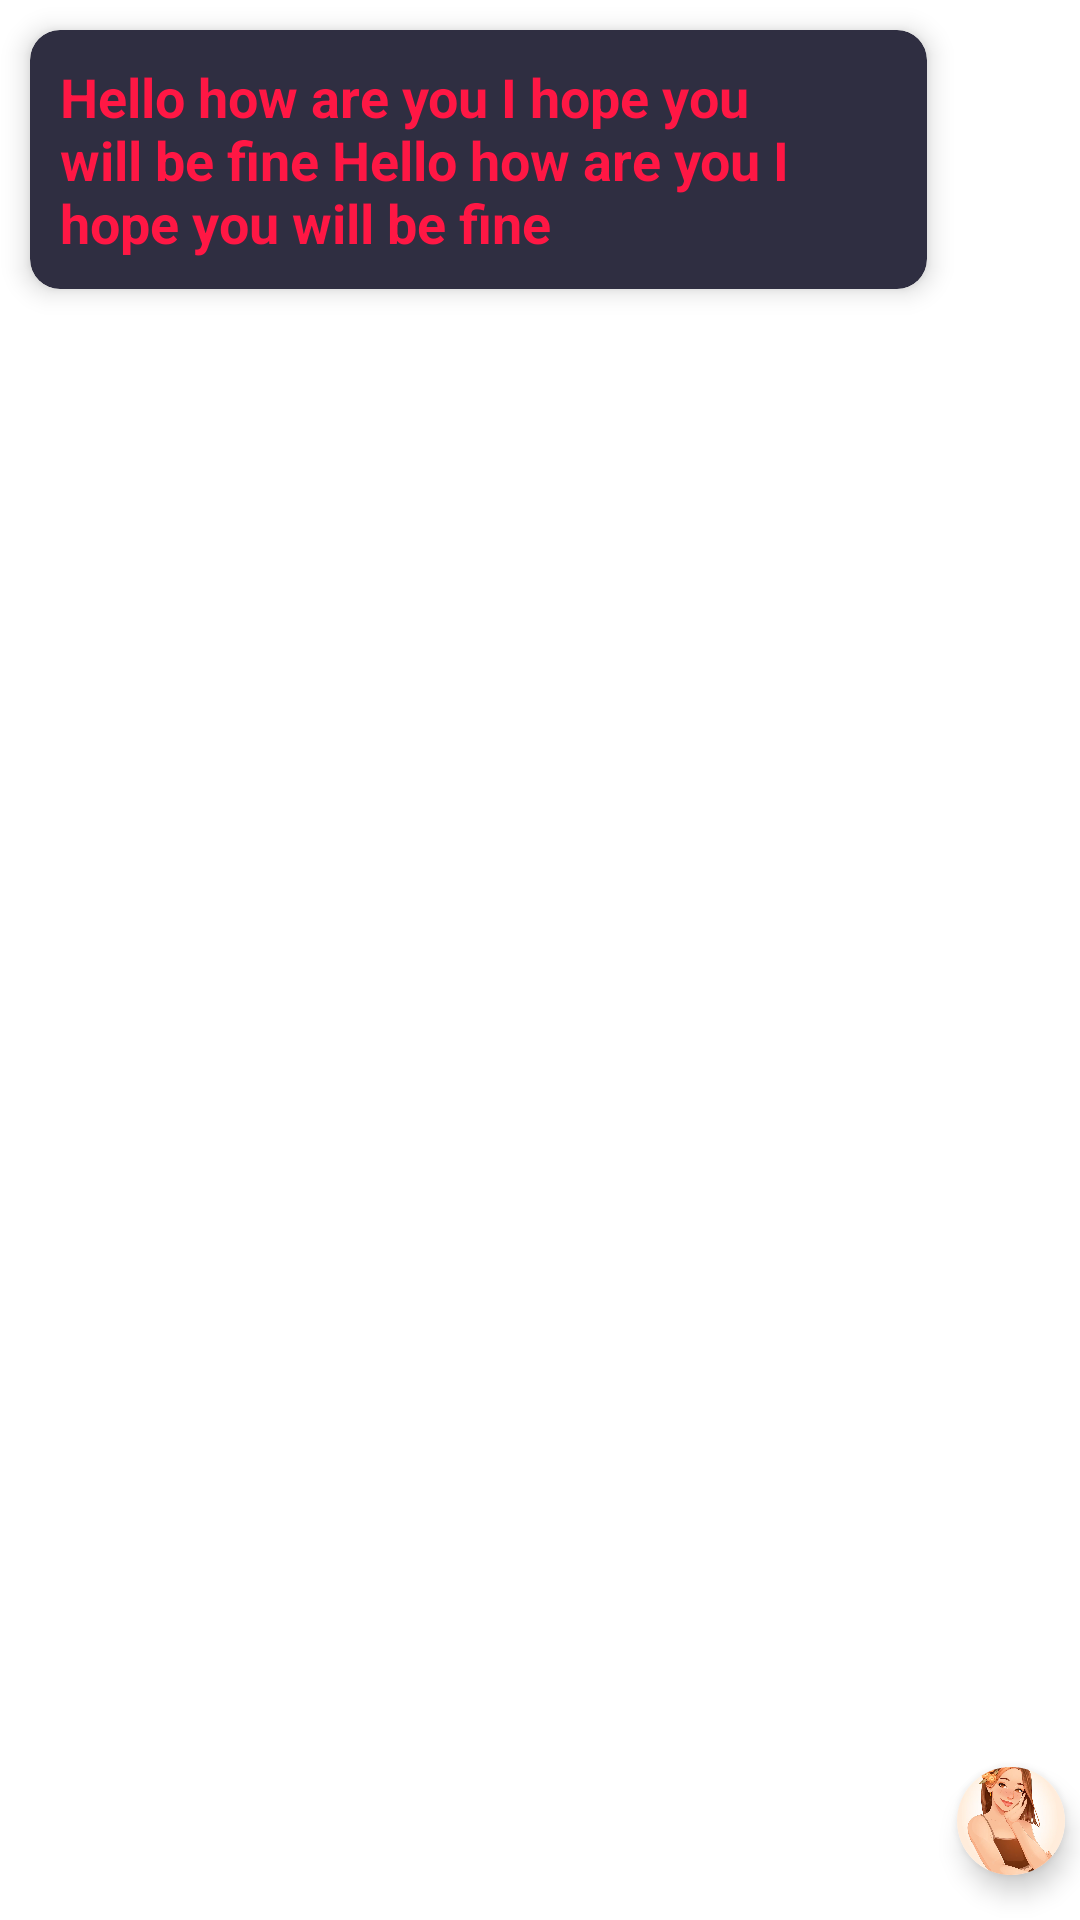

Where icons sit on this 1080x1920 app screen, as (x1, y1, x2, y2):
profile: (957, 1767, 1065, 1875)
